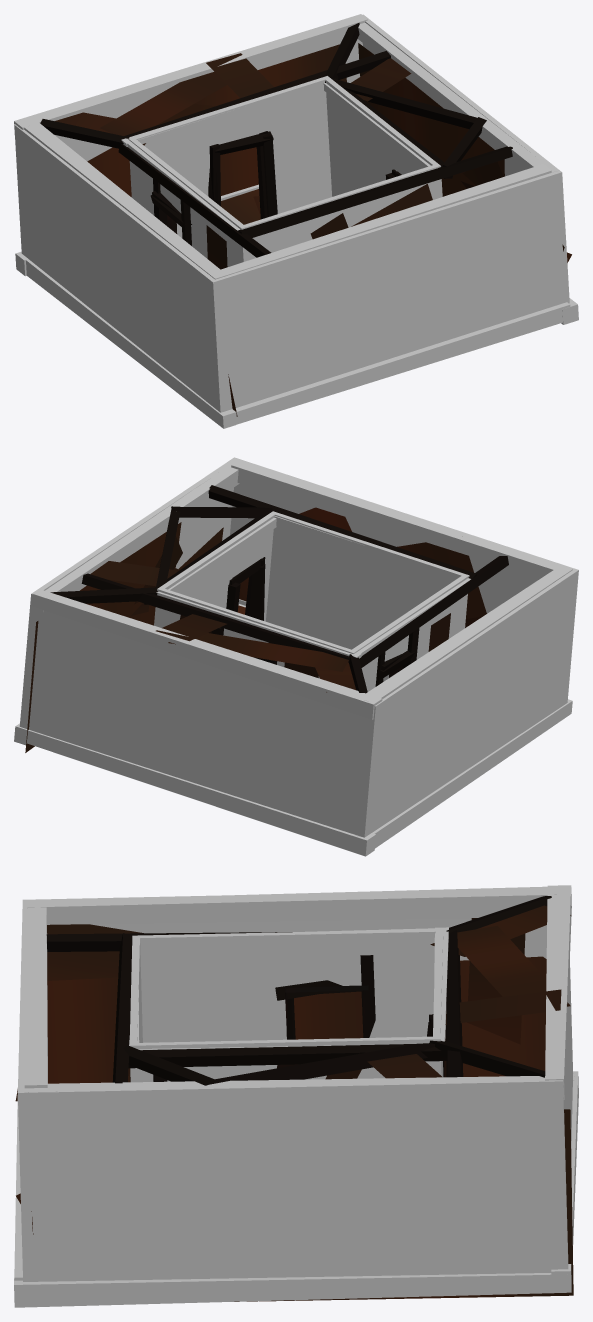
The model's file is Room_08_quill.fbx.
3 renders of one model, top to bottom at view 1: azimuth 30°, elevation 25°; view 2: azimuth 150°, elevation 25°; view 3: azimuth 270°, elevation 25°, orthographic. The views are drawn at different scales.
Visible parts, largest first — view 1: ref.obj, Det; view 2: ref.obj, Det; view 3: ref.obj, Det.
Boxes of the visible parts, <box> form: ref.obj: <box>14,14,578,428</box>; Det: <box>40,23,571,416</box>; ref.obj: <box>14,457,578,856</box>; Det: <box>25,485,508,752</box>; ref.obj: <box>14,885,578,1307</box>; Det: <box>15,896,573,1301</box>.
Bounding box in the file's own units: 1.26 × 0.6249 × 1.25.
